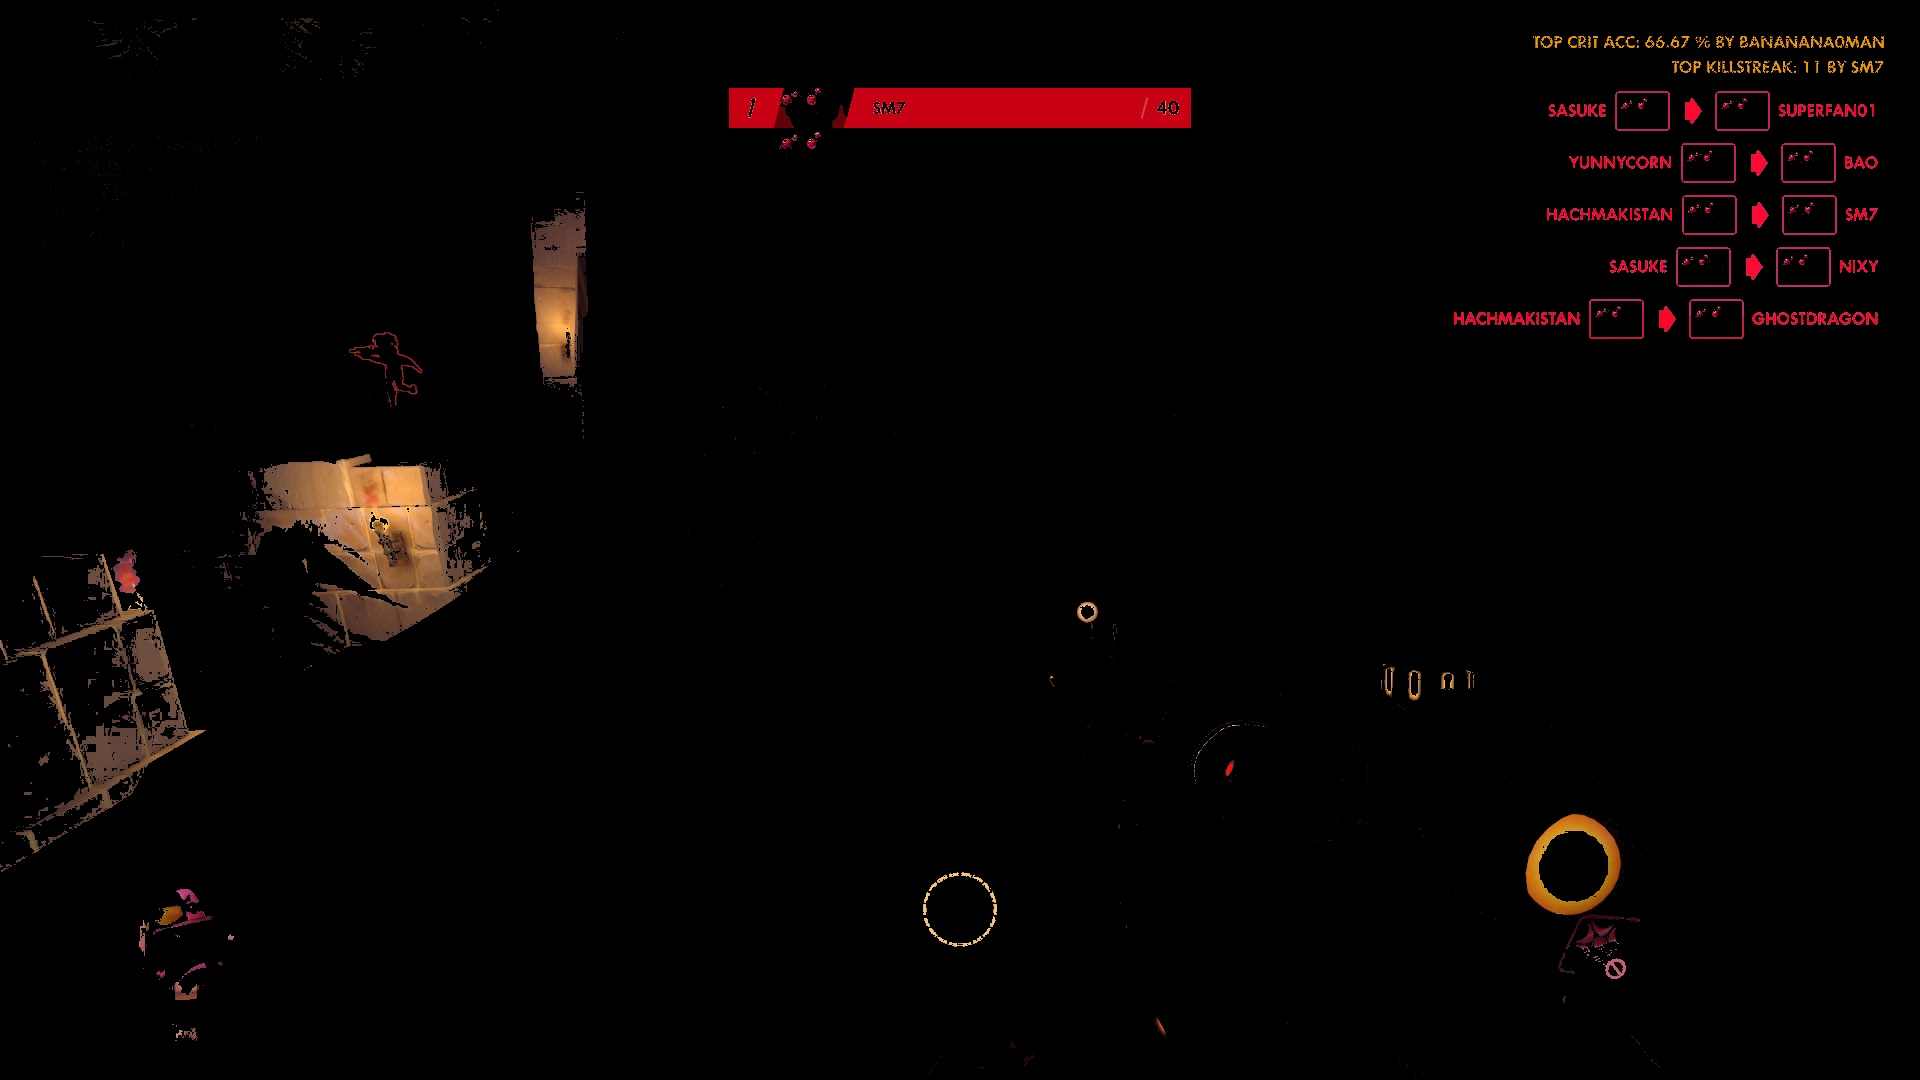widowmaker: (363, 328, 426, 415)
